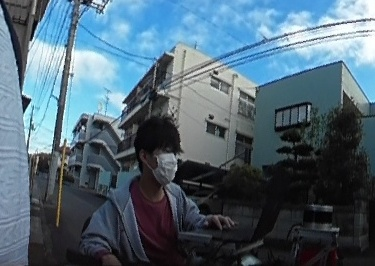person: (86, 116, 220, 266)
